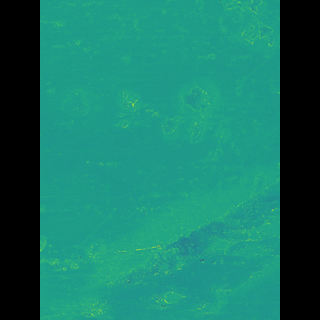Loch: (72, 176, 248, 320), (125, 86, 201, 138), (84, 85, 106, 125)
